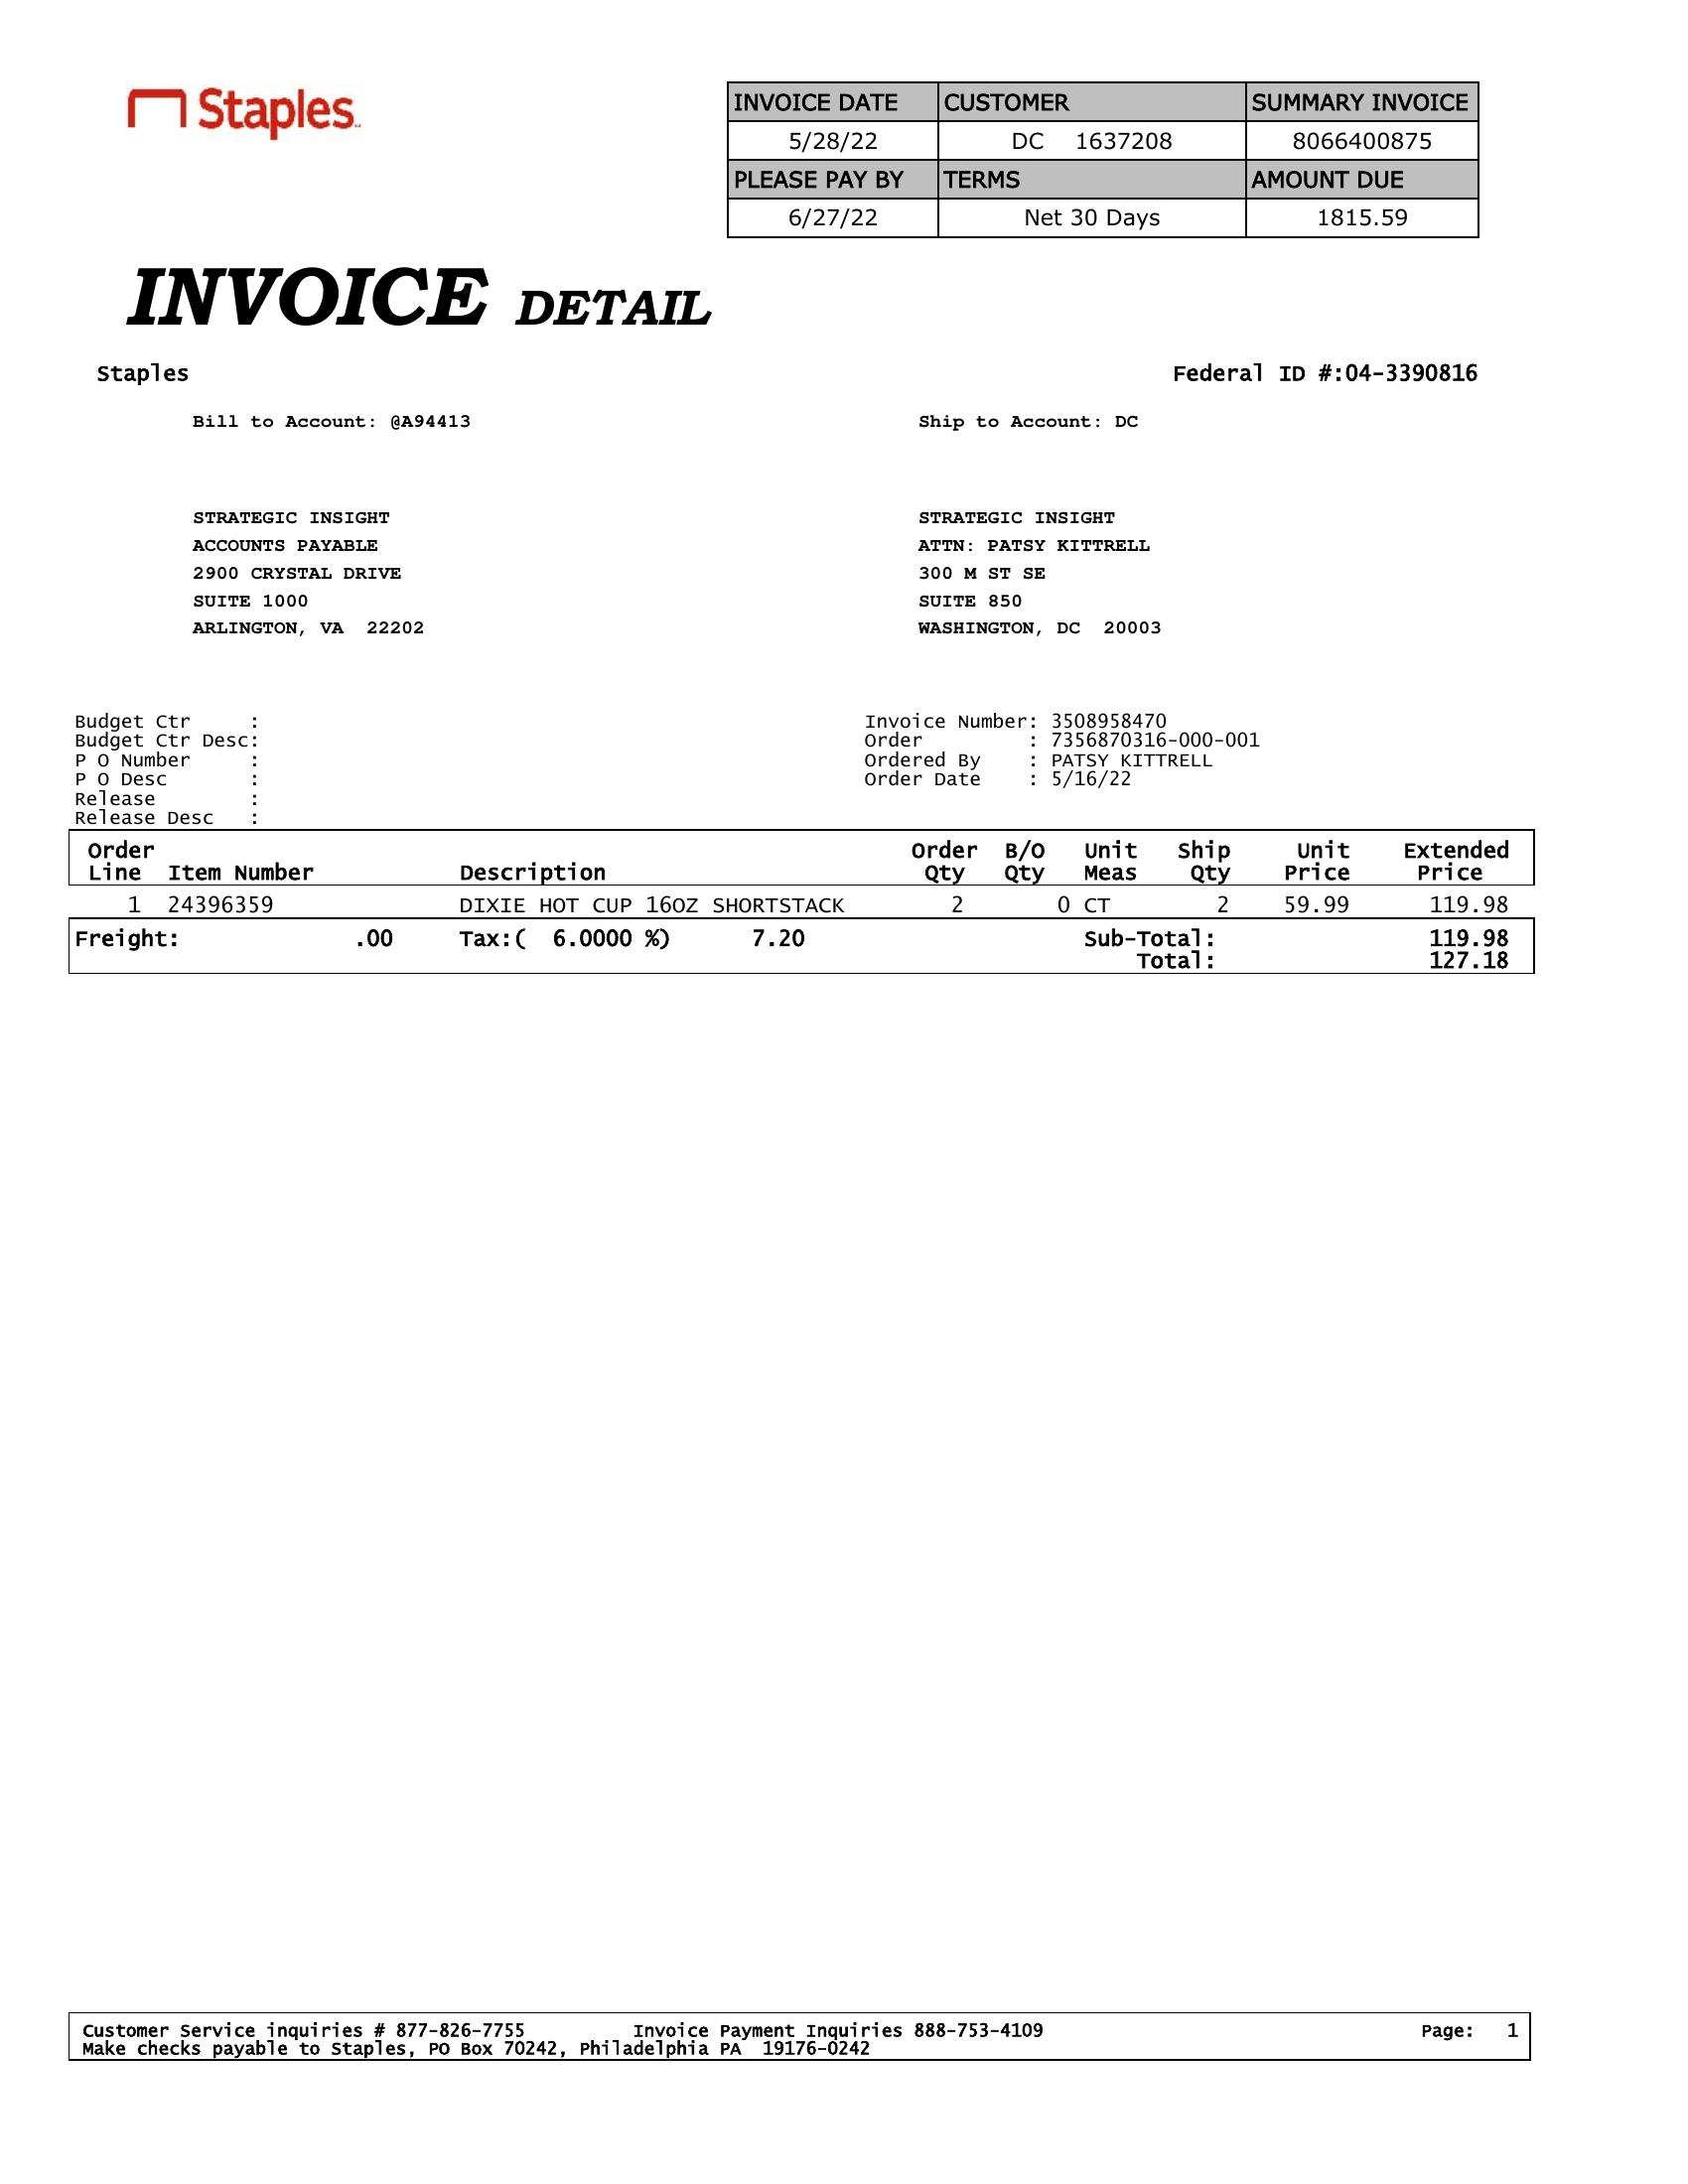table: (718, 62, 1502, 255), (73, 826, 1553, 916)
